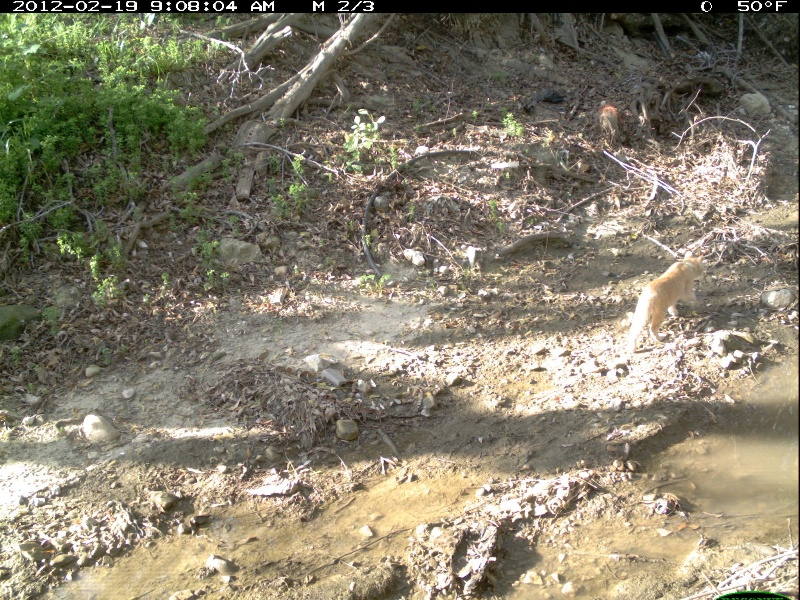cat: (631, 253, 703, 350)
